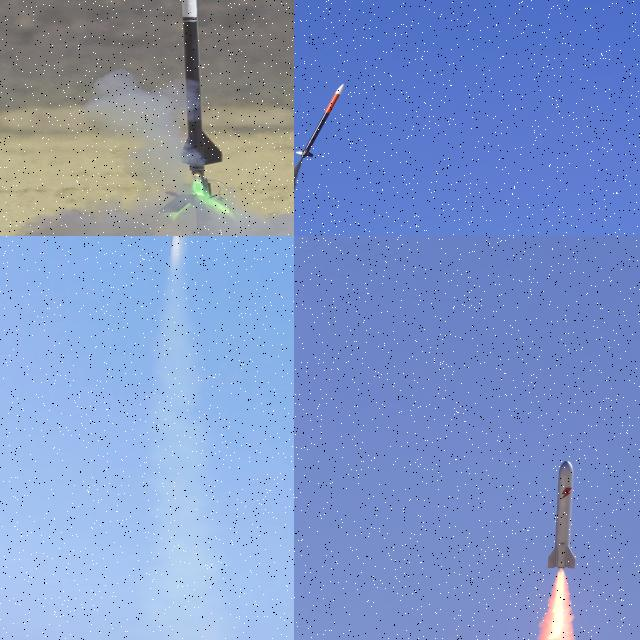Rocket: (171, 0, 226, 176), (535, 456, 587, 576), (295, 84, 344, 158)
